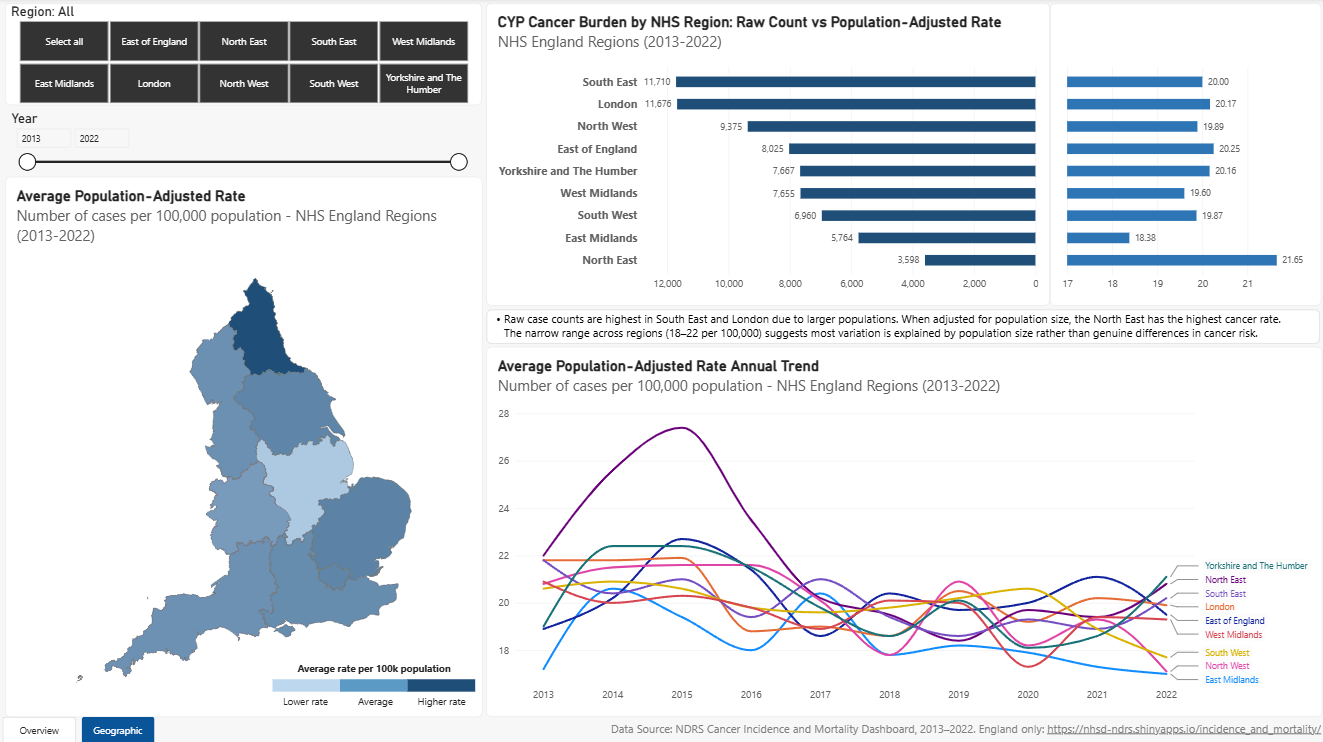

What the dashboard file says about the page in this screenshot:
{"tool":"powerbi","page":{"name":"Geographic","canvas":[1920,1080],"ordinal":1},"visuals":[{"type":"shapeMap","title":"Average Population-Adjusted Rate","fields":{"Category":["Dim_Region.Geography name"],"Value":["Avg(icd10_regional_rates.Rate (numeric))"]},"box":[7.2,258.8,691.3,782],"z":0},{"type":"actionButton","box":[0,0,100,40],"z":1000},{"type":"clusteredBarChart","title":"CYP Cancer Burden by NHS Region: Raw Count vs Population-Adjusted Rate","fields":{"Category":["Dim_Region.Geography name"],"Y":["Sum(regional.Count)"]},"box":[703.8,7.5,816.2,438],"z":2000},{"type":"barChart","title":" ","fields":{"Category":["Dim_Region.Geography name"],"Y":["Avg(icd10_regional_rates.Rate (numeric))"]},"box":[1520,7.5,392.5,438],"z":3000},{"type":"slicer","fields":{"Values":["Dim_Region.Geography name"]},"box":[8,8,690,148],"z":4000},{"type":"slicer","title":"Year","fields":{"Values":["icd10_regional_rates.Year"]},"box":[16.3,162.9,664.1,99.5],"z":5000},{"type":"lineChart","title":"Average Population-Adjusted Rate Annual Trend","fields":{"Category":["icd10_regional_rates.YearDate.Variation.Date Hierarchy.Year"],"Series":["Dim_Region.Geography name"],"Y":["Sum(icd10_regional_rates.Rate (numeric))"]},"box":[704,504,1210,536],"z":6000},{"type":"pageNavigator","box":[4,1040,220,40],"z":7000},{"type":"textbox","box":[754,1046,1158,30],"z":8000},{"type":"textbox","box":[703.8,450,1207.5,50],"z":9000},{"type":"shape","box":[395,987.7,98,18],"z":9001,"group":"g1"},{"type":"shape","box":[493,987.7,98,18],"z":9002,"group":"g1"},{"type":"shape","box":[591,987.7,98,18],"z":9003,"group":"g1"},{"type":"textbox","box":[401,1008.8,84.3,31.4],"z":9004,"group":"g1"},{"type":"textbox","box":[501,1008.8,84.3,31.4],"z":9005,"group":"g1"},{"type":"textbox","box":[598.1,1008.8,84.3,31.4],"z":9006,"group":"g1"},{"type":"textbox","box":[408.1,961.7,268.6,24.3],"z":9007,"group":"g1"},{"type":"group","id":"g1","title":"Group 1","box":[395,961.7,294.3,78.6],"z":9008}]}

Visuals, with their boxes in screenshot pixels (x1, y1, x2, y2), scaled from the page's 1920x1080 canvas onto the 1323x742 screenshot:
"Average Population-Adjusted Rate" shapeMap: region(5, 178, 481, 715)
actionButton: region(0, 0, 69, 27)
"CYP Cancer Burden by NHS Region: Raw Count vs Population-Adjusted Rate" clusteredBarChart: region(485, 5, 1047, 306)
" " barChart: region(1047, 5, 1318, 306)
slicer - Dim_Region.Geography name: region(6, 5, 481, 107)
"Year" slicer: region(11, 112, 469, 180)
"Average Population-Adjusted Rate Annual Trend" lineChart: region(485, 346, 1319, 715)
pageNavigator: region(3, 715, 154, 741)
textbox: region(520, 719, 1317, 739)
textbox: region(485, 309, 1317, 344)
shape: region(272, 679, 340, 691)
shape: region(340, 679, 407, 691)
shape: region(407, 679, 475, 691)
textbox: region(276, 693, 334, 715)
textbox: region(345, 693, 403, 715)
textbox: region(412, 693, 470, 715)
textbox: region(281, 661, 466, 677)
"Group 1" group: region(272, 661, 475, 715)
